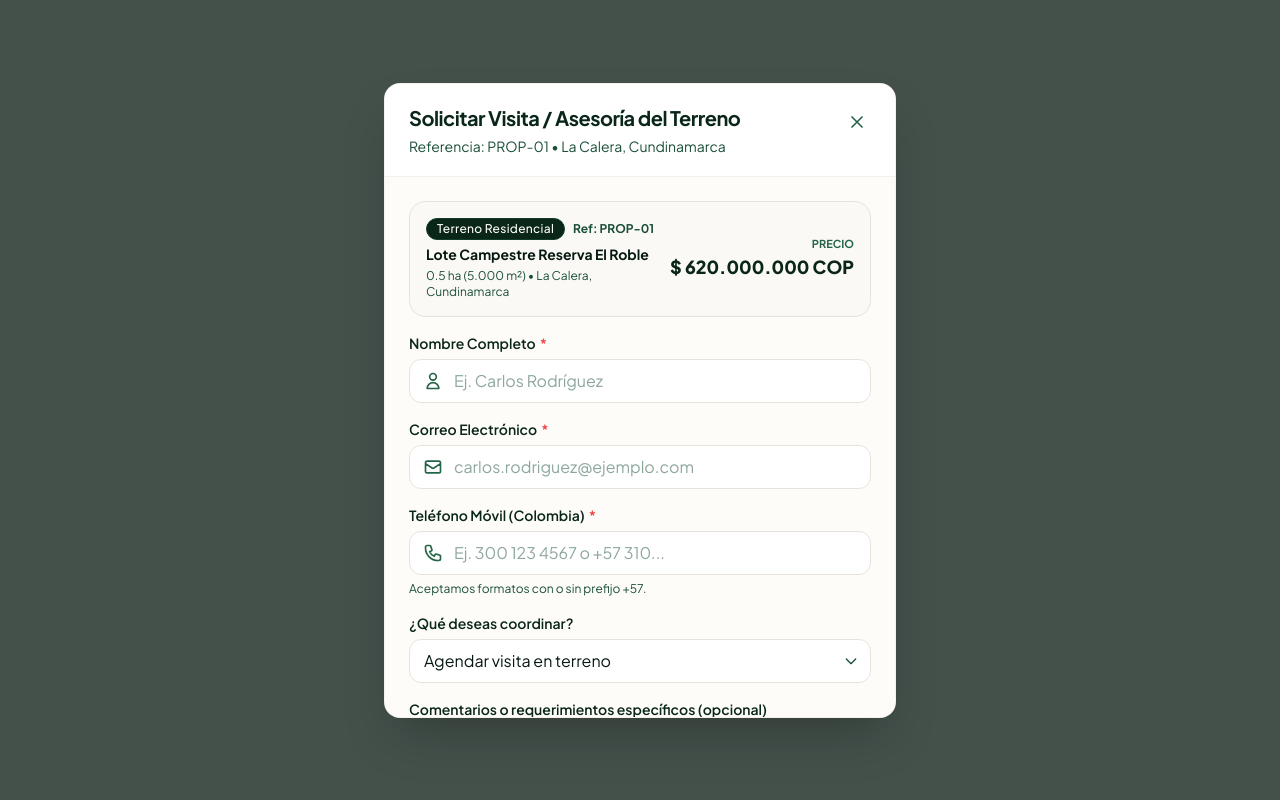
Test: Task 9: Modal de Captación de Leads y Botón Flotante de WhatsApp › <ContactLeadModal /> › transiciona a la vista de éxito tras enviar un formulario válido y ofrece link de WhatsApp
This screenshot has width=1280, height=800.
Type "Laura Restrepo" into the field labelled "Nombre Completo*" at (640, 380), box 409,358 -> 871,402
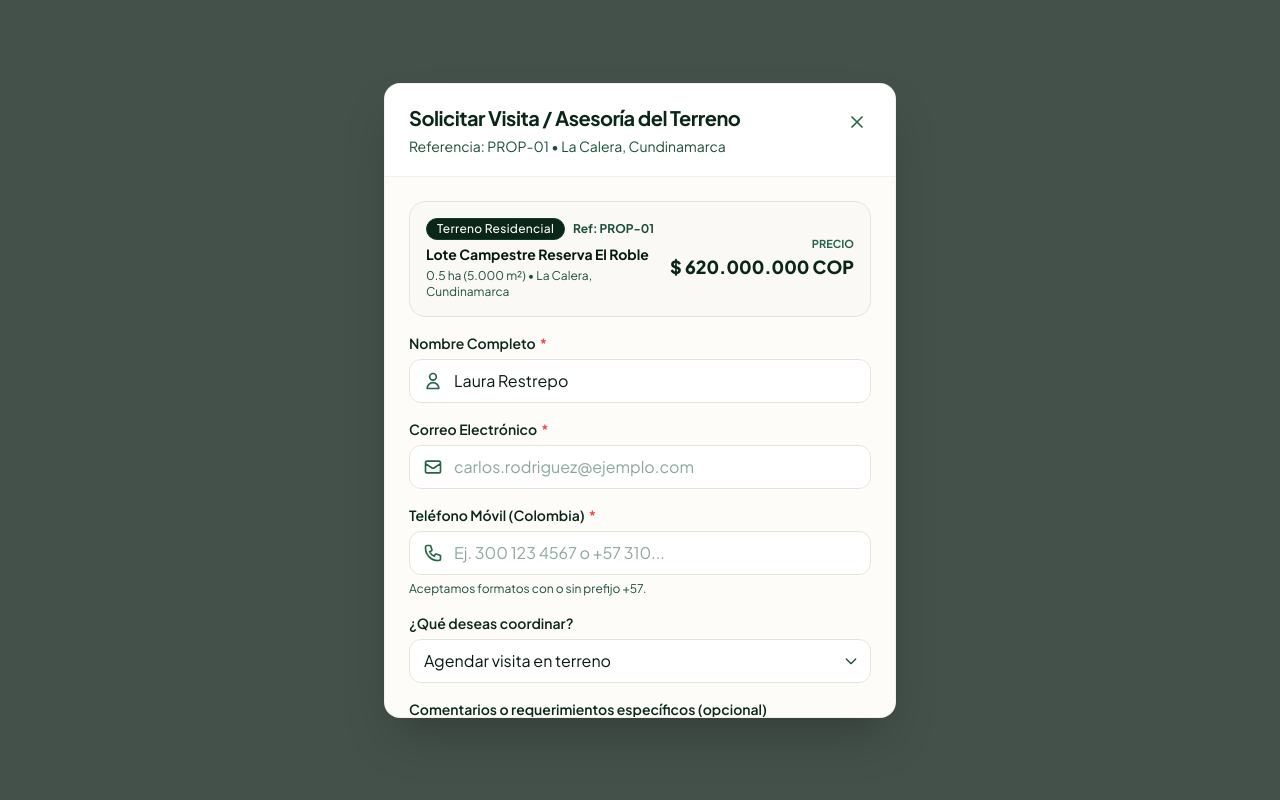
Type "laura.restrepo@empresa.com" into the field labelled "Correo Electrónico*" at (640, 466), box 409,444 -> 871,488
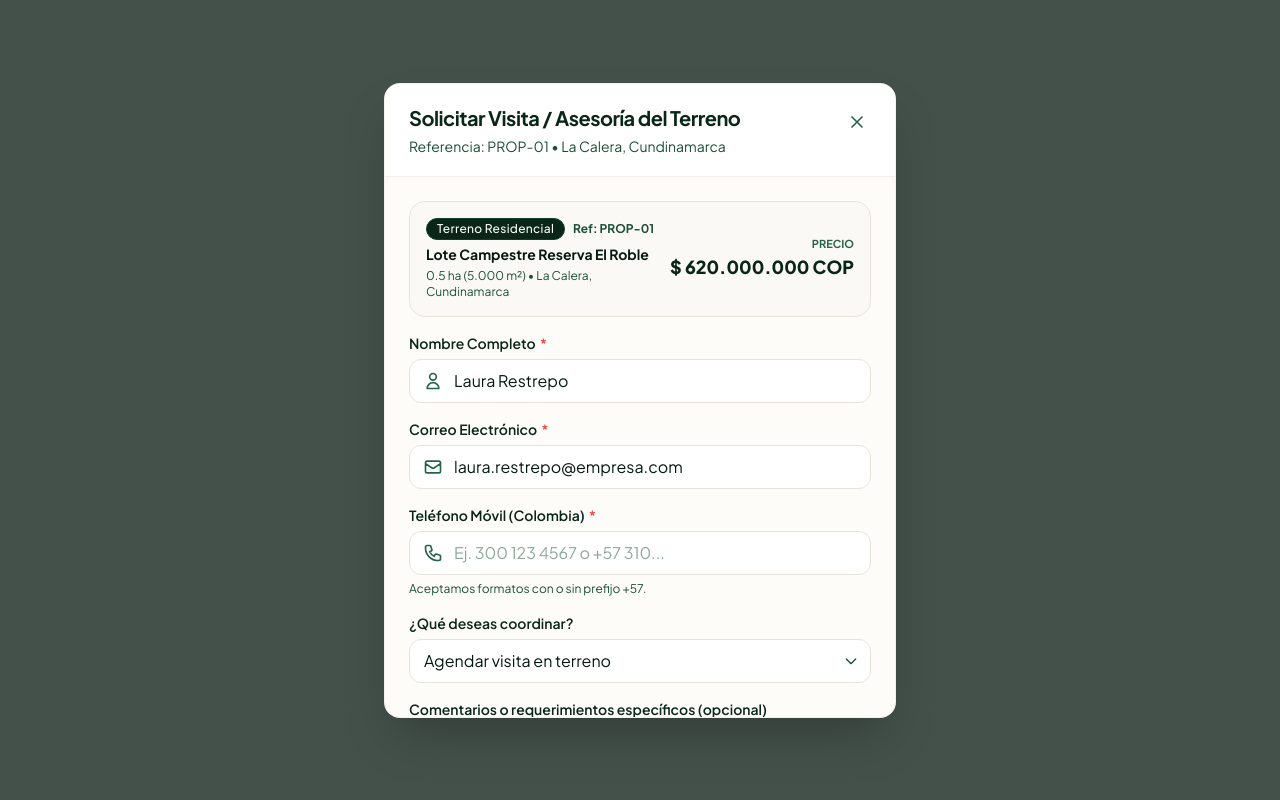
Type "3159998877" into the field labelled "Teléfono Móvil (Colombia)*" at (640, 552), box 409,530 -> 871,574
(page scrolled)
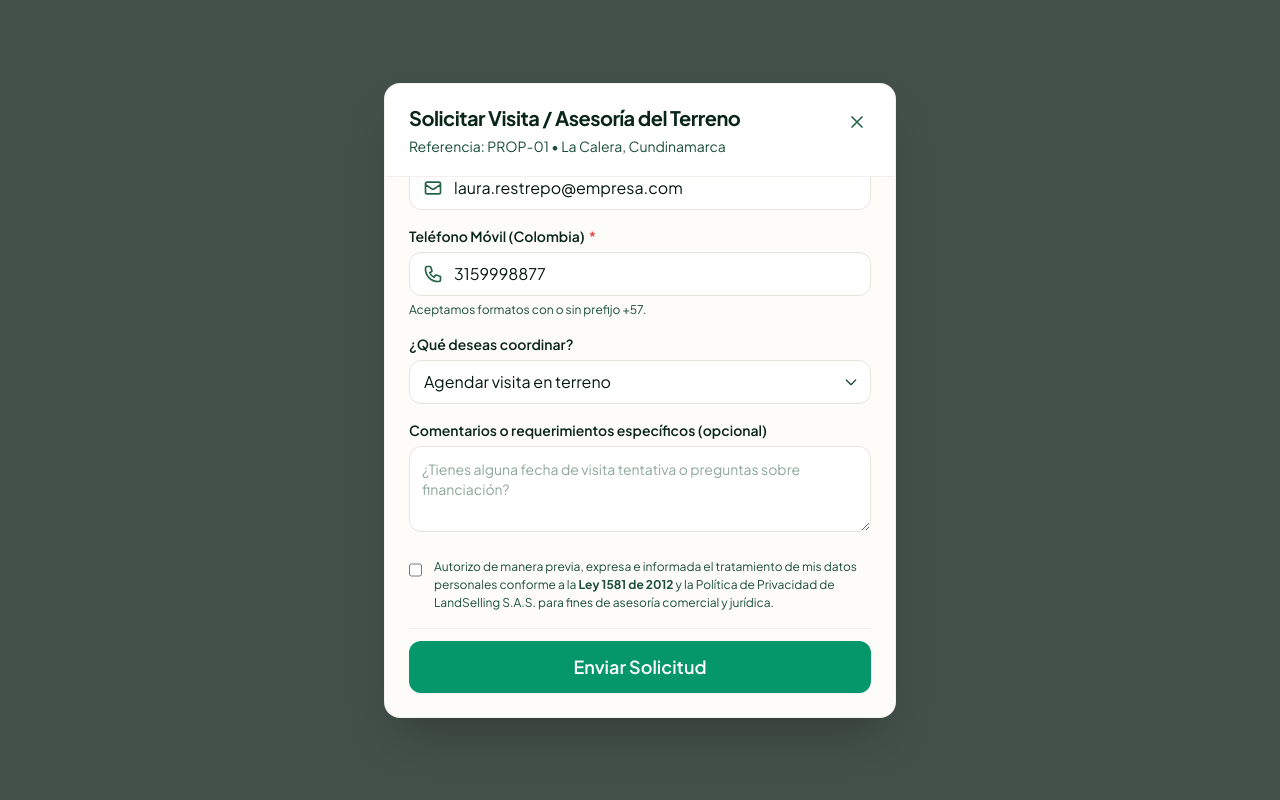
Click the checkbox at (416, 570), box 409,562 -> 422,578
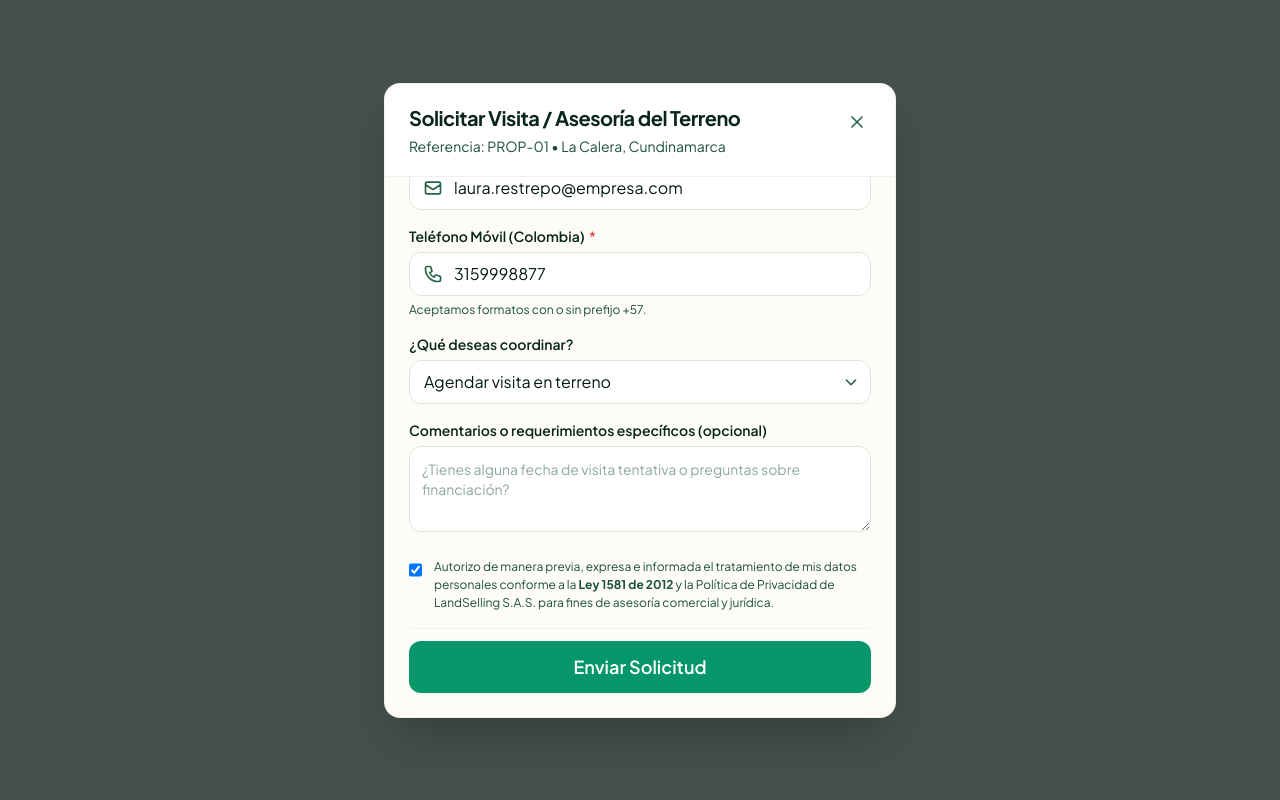
Click the button "Enviar Solicitud" at (640, 666), box 409,640 -> 871,692
Wait 500 ms
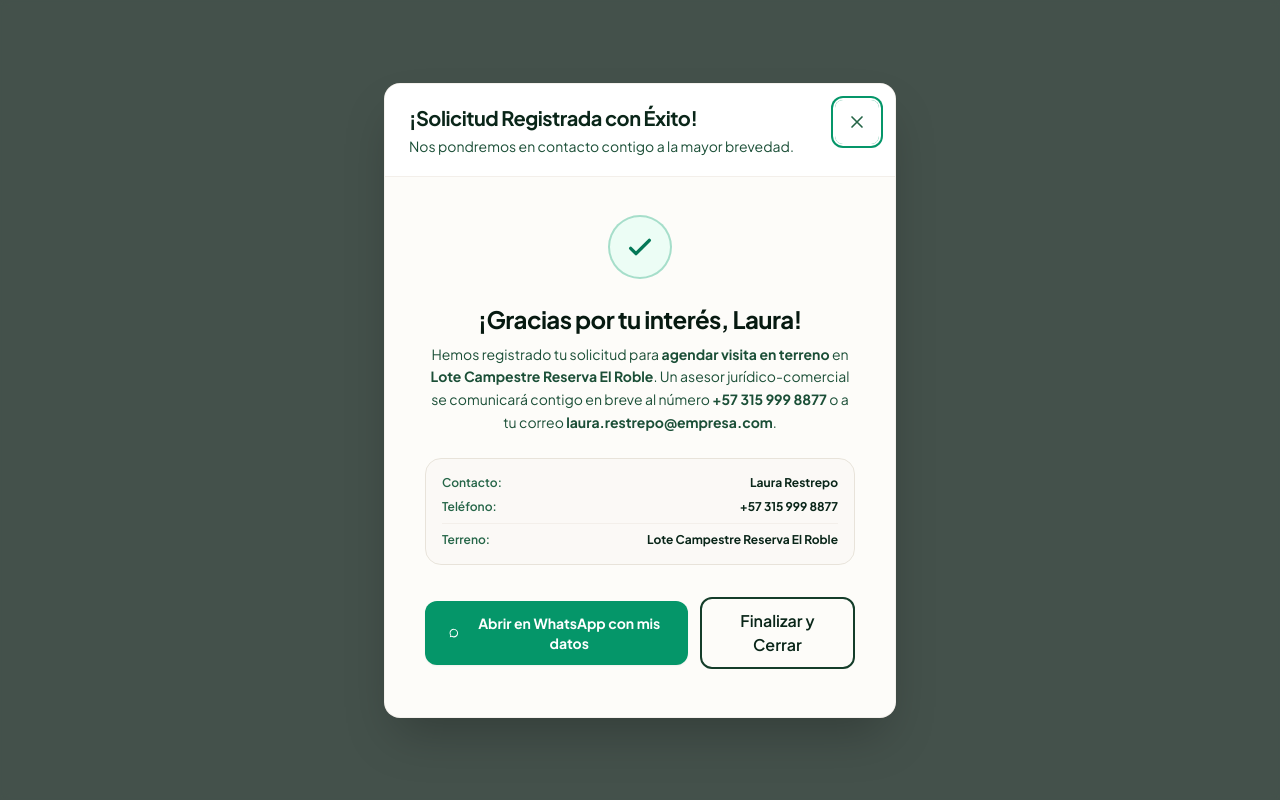
Check: the message is shown, box 409,190 -> 871,692
Check: the heading "¡Gracias por tu interés, Laura!" is shown, box 478,304 -> 802,334
